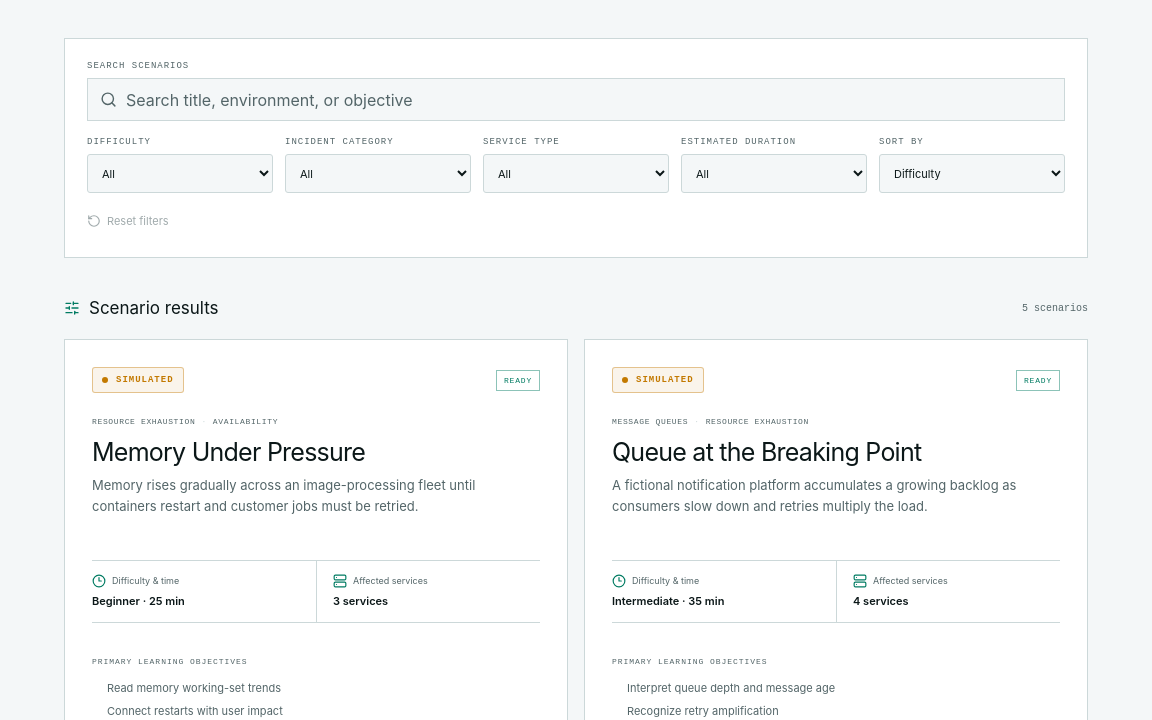
scenario catalog › searches titles and objectives
Step 1. Type "queue depth" into the search field labelled "Search scenarios" → (589, 100), box left=126, top=88, right=1052, bottom=112
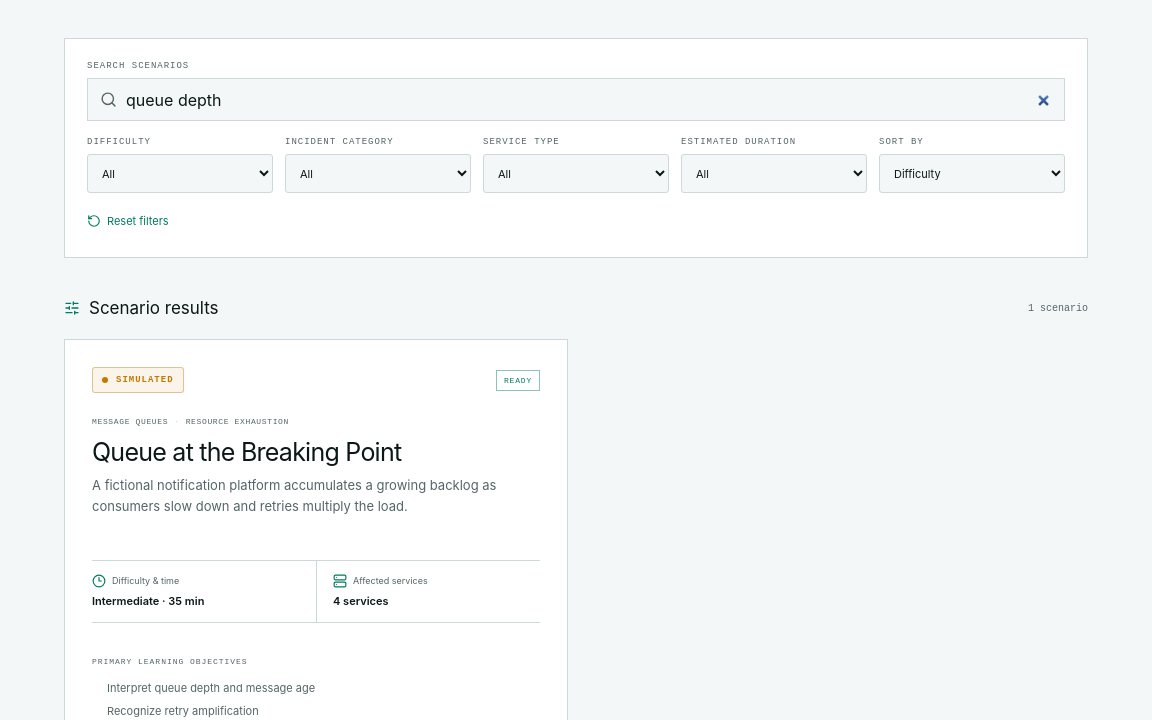
Check: the heading "Queue at the Breaking Point" is shown, box left=92, top=437, right=401, bottom=467
Check: the heading "Memory Under Pressure" is gone
